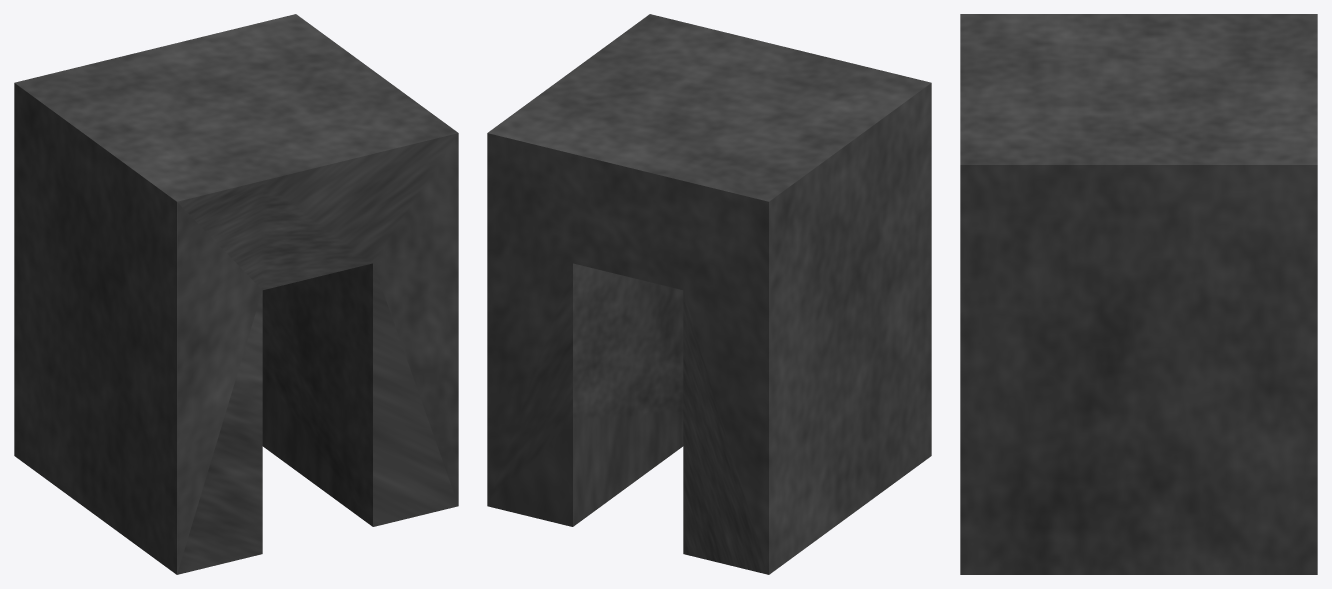
Rendered from Obstacle_Rock.obj.
3 renders of one model, left to right at view 1: azimuth 30°, elevation 25°; view 2: azimuth 150°, elevation 25°; view 3: azimuth 270°, elevation 25°, orthographic. The views are drawn at different scales.
Visible parts, largest first — view 1: Obstacle_Rock; view 2: Obstacle_Rock; view 3: Obstacle_Rock.
Part boxes in pixels (left/top/right/bottom): Obstacle_Rock: left=14, top=14, right=458, bottom=574; Obstacle_Rock: left=487, top=14, right=931, bottom=574; Obstacle_Rock: left=960, top=14, right=1317, bottom=574.
Bounding box in the file's own units: 2 × 2.53 × 2.
Materials: 1 (1 with a texture image).
